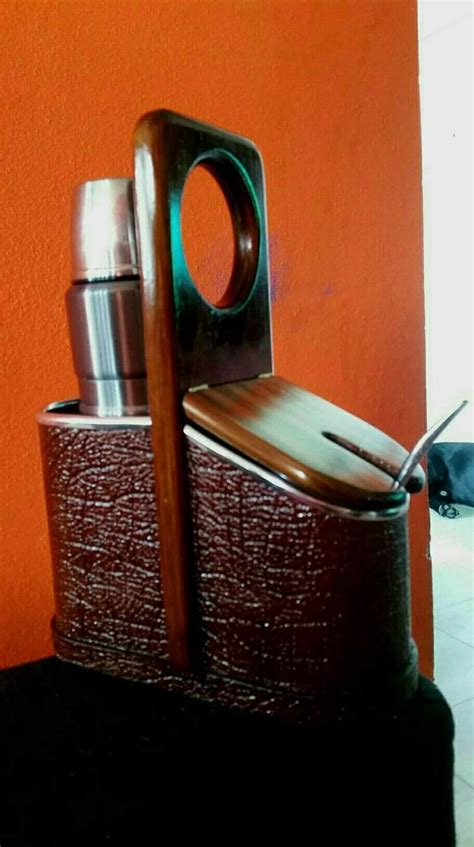cuero: (43, 423, 418, 726)
